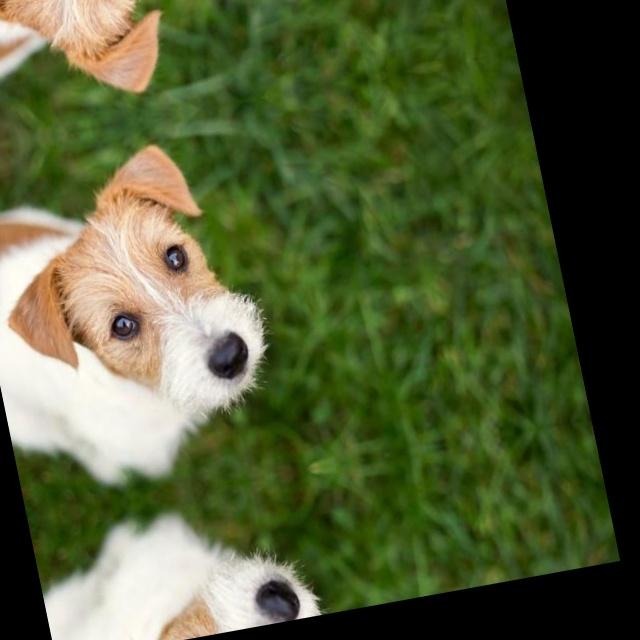dog: (0, 110, 289, 500), (31, 492, 322, 640), (0, 0, 217, 150)
